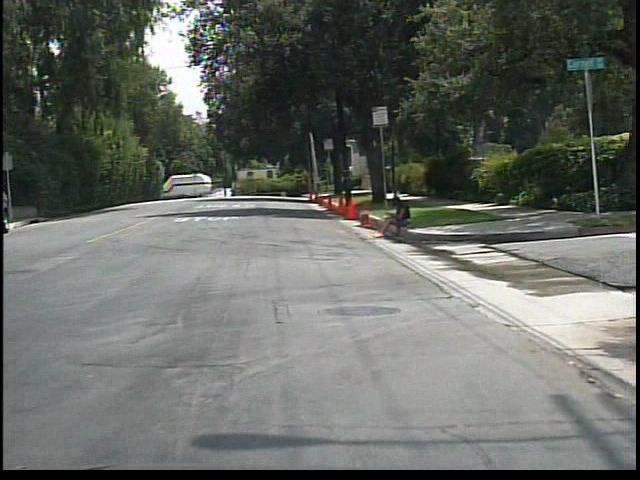person: (373, 191, 423, 243)
